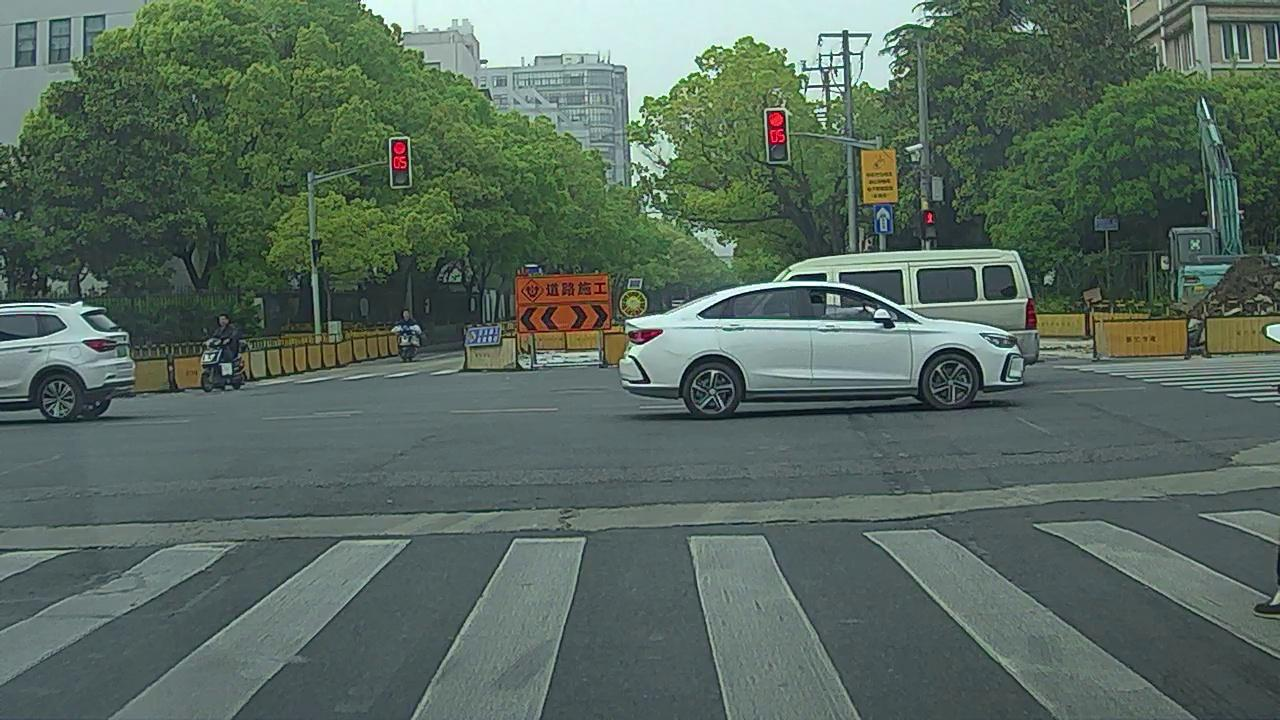traffic_light: (767, 111, 789, 159), (391, 139, 410, 188)
